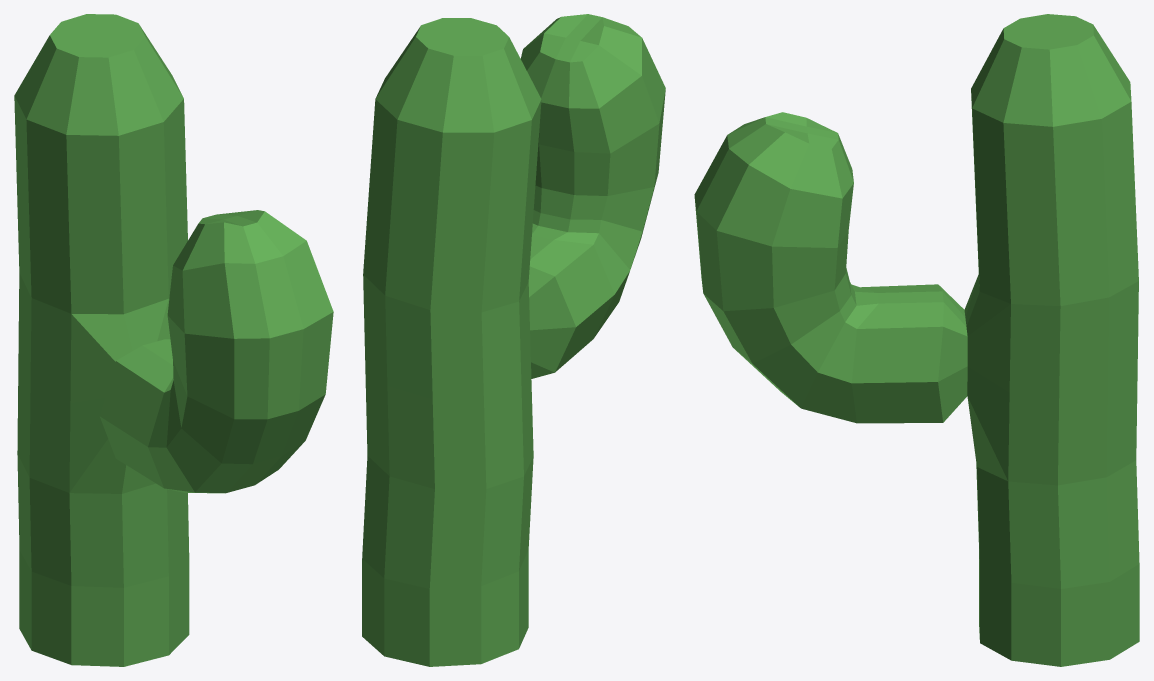
Rendered from Cactus01.fbx.
3 renders of one model, left to right at view 1: azimuth 30°, elevation 25°; view 2: azimuth 150°, elevation 25°; view 3: azimuth 270°, elevation 25°, orthographic.
Parts seen in each view (by area): view 1: Cylinder.001; view 2: Cylinder.001; view 3: Cylinder.001.
Boxes of the visible parts, x1,y1,x2,y2 form: Cylinder.001: [14, 14, 333, 666]; Cylinder.001: [362, 14, 665, 666]; Cylinder.001: [694, 14, 1139, 666].
Size of the model in its own units: 16.88 by 62.38 by 42.19.
